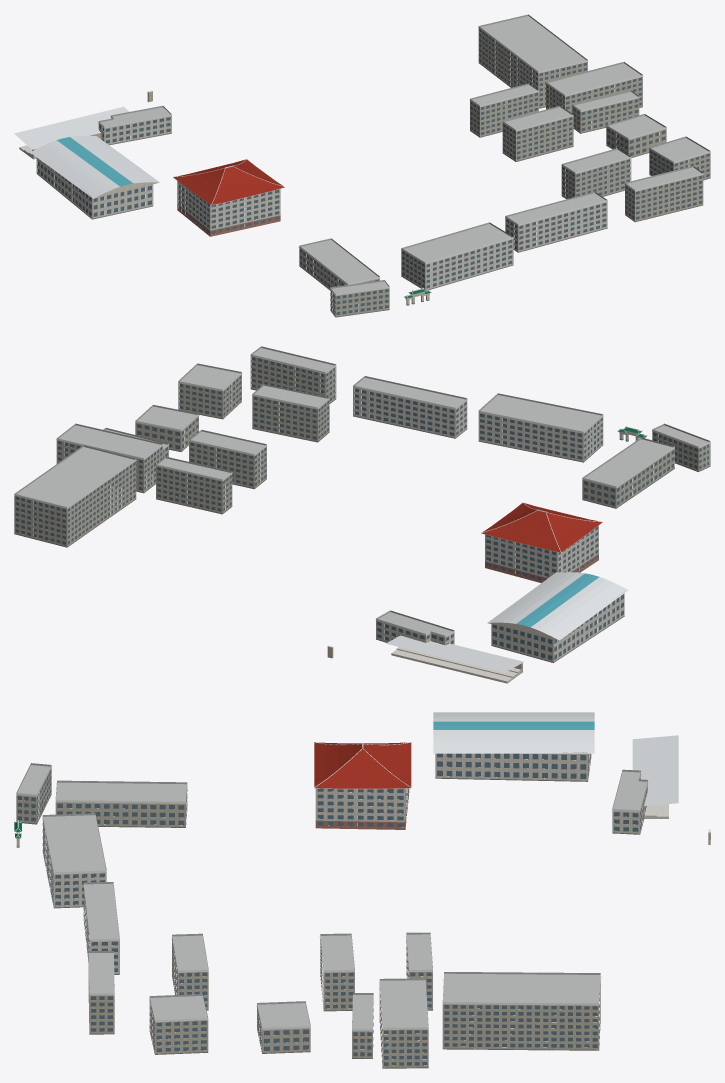
File: d05_sports_living_lod1.glb
3 renders of one model, top to bottom at view 1: azimuth 30°, elevation 25°; view 2: azimuth 150°, elevation 25°; view 3: azimuth 270°, elevation 25°, orthographic. The views are drawn at different scales.
Parts seen in each view (by area): view 1: gymnasium.001, dorm_f.001, dorm_m_north.001, south_annex_w.001, south_annex_e.001, dorm_se_b.001, dorm_m_mid2.001, dorm_m_east1.001, dorm_se_a.001, canteen3.001, dorm_m_mid1.001, west_sports_annex.001 (+5 smaller); view 2: dorm_m_north.001, gymnasium.001, dorm_f.001, south_annex_w.001, south_annex_e.001, canteen3.001, dorm_se_a.001, dorm_m_mid1.001, dorm_se_b.001, stadium_grandstand.001, dorm_m_mid2.001, dorm_m_east1.001 (+4 smaller); view 3: dorm_m_north.001, gymnasium.001, dorm_f.001, canteen3.001, south_annex_w.001, dorm_m_east1.001, east_hall_se.001, stadium_grandstand.001, canteen1.001, dorm_m_mid2.001, south_annex_e.001, dorm_se_b.001 (+5 smaller).
Boxes of the visible parts, box(x1,y1,x2,y2) form: gymnasium.001: box(30, 135, 159, 219); dorm_f.001: box(173, 159, 284, 236); dorm_m_north.001: box(478, 14, 588, 108); south_annex_w.001: box(401, 222, 513, 290); south_annex_e.001: box(505, 191, 607, 252); dorm_se_b.001: box(624, 166, 703, 222); dorm_m_mid2.001: box(502, 105, 573, 161); dorm_m_east1.001: box(545, 62, 643, 118); dorm_se_a.001: box(561, 148, 631, 199); canteen3.001: box(299, 238, 379, 301); dorm_m_mid1.001: box(469, 83, 539, 137); west_sports_annex.001: box(98, 105, 171, 145); dorm_m_north.001: box(14, 445, 136, 547); gymnasium.001: box(487, 572, 628, 662); dorm_f.001: box(481, 502, 602, 582); south_annex_w.001: box(478, 393, 603, 462); south_annex_e.001: box(353, 376, 467, 438); canteen3.001: box(582, 437, 674, 508); dorm_se_a.001: box(252, 384, 329, 442); dorm_m_mid1.001: box(156, 456, 232, 514); dorm_se_b.001: box(250, 346, 336, 403); stadium_grandstand.001: box(327, 635, 524, 683); dorm_m_mid2.001: box(189, 429, 266, 489); dorm_m_east1.001: box(56, 423, 163, 493); dorm_m_north.001: box(442, 972, 601, 1050); gymnasium.001: box(433, 712, 594, 781); dorm_f.001: box(314, 742, 411, 829); canteen3.001: box(55, 780, 187, 827); south_annex_w.001: box(42, 813, 106, 908); dorm_m_east1.001: box(379, 978, 428, 1068); east_hall_se.001: box(149, 994, 208, 1054); stadium_grandstand.001: box(632, 735, 710, 844); canteen1.001: box(256, 1001, 310, 1053); dorm_m_mid2.001: box(320, 933, 354, 1011); south_annex_e.001: box(83, 882, 119, 974); dorm_se_b.001: box(88, 951, 114, 1034).
Bounding box in the file's own units: 353 × 31.68 × 318.
Materials: 14 (7 with a texture image).
